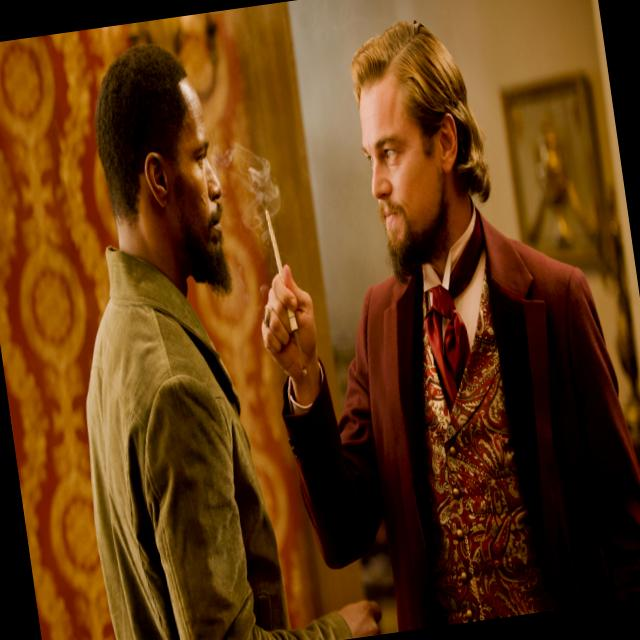smoke: (249, 186, 318, 354)
